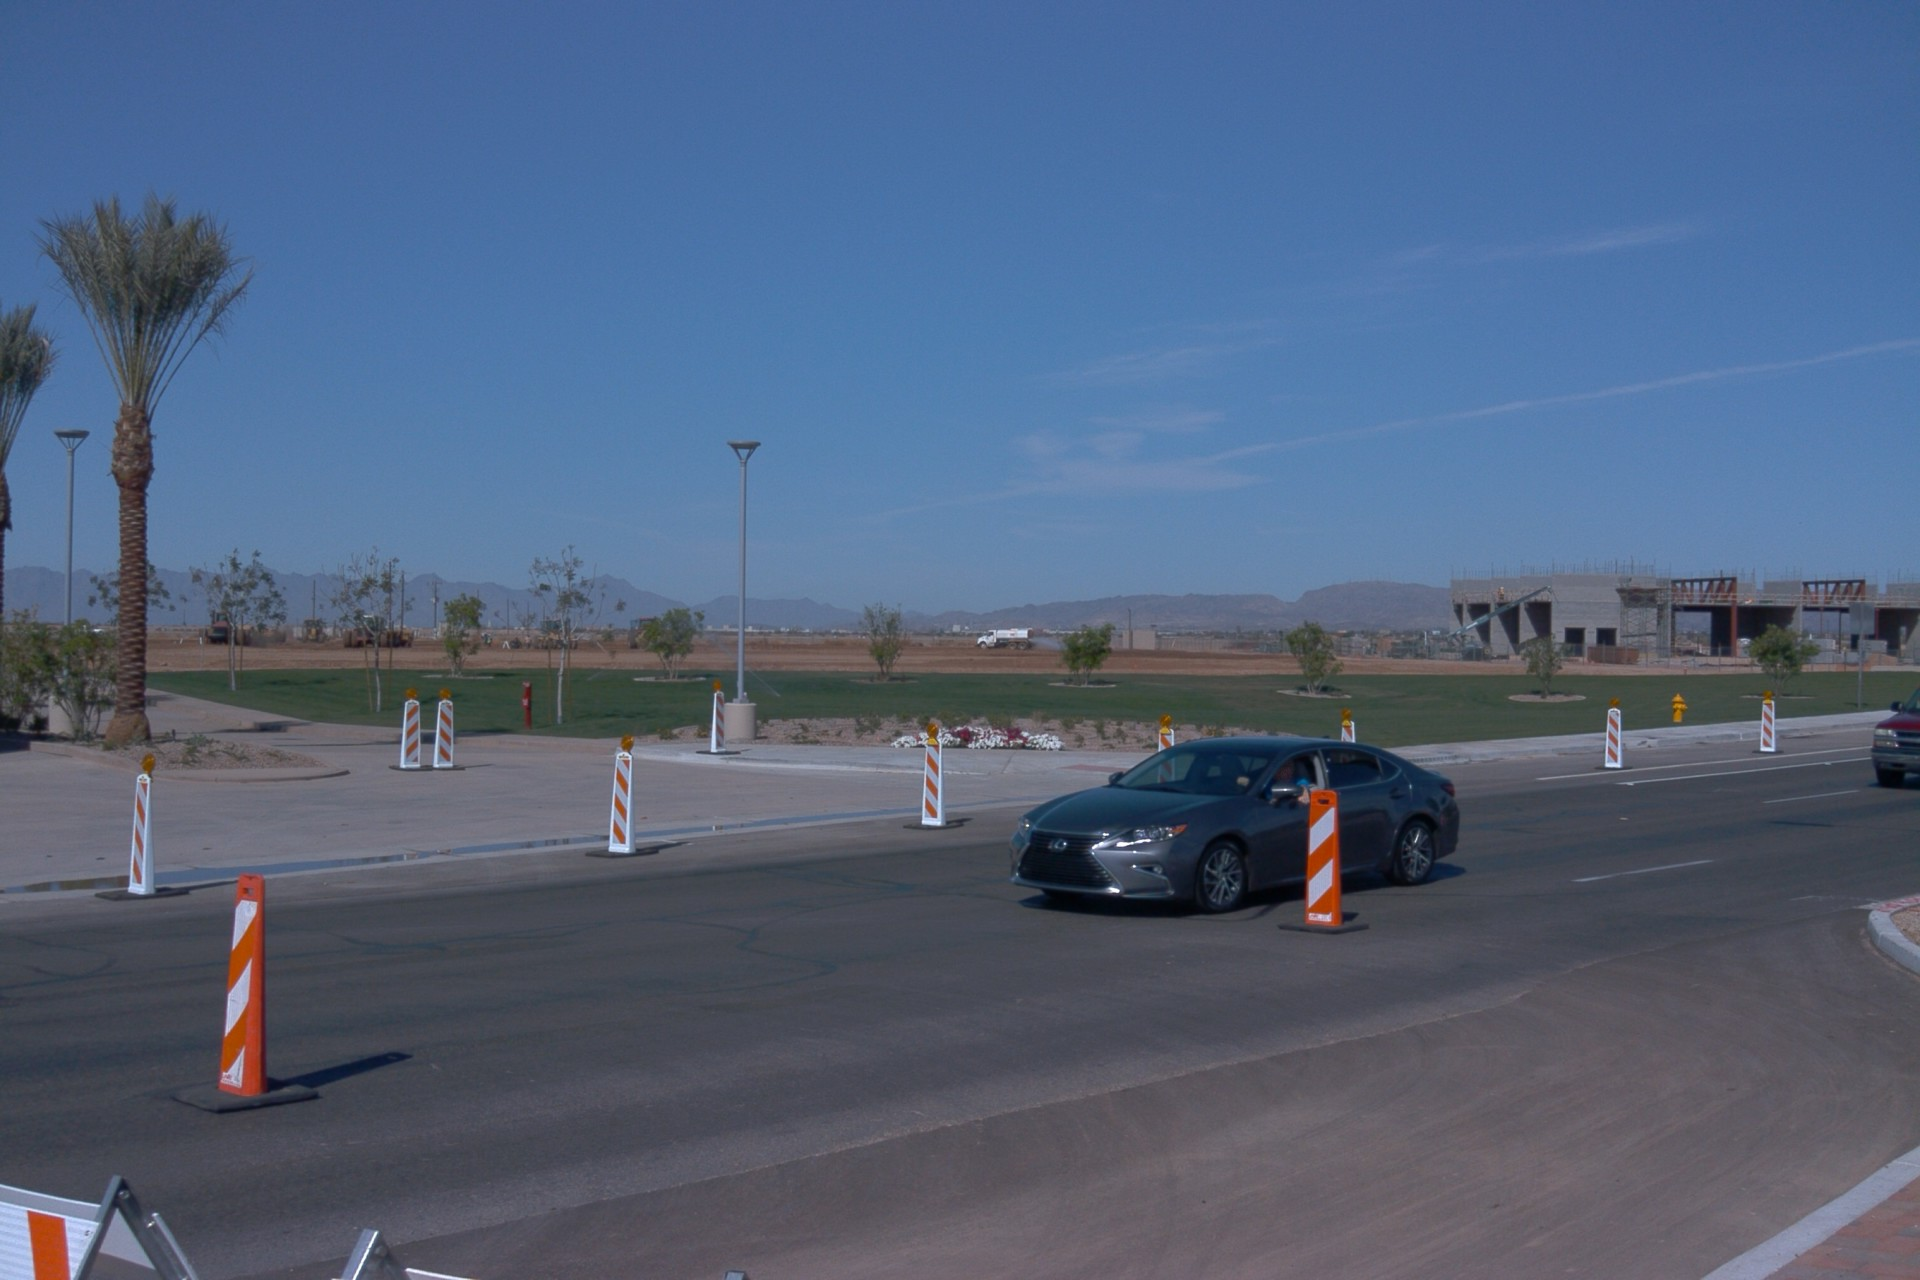TYPE_PEDESTRIAN: (523, 635, 534, 651), (486, 633, 494, 648)
TYPE_VEHICLE: (1008, 734, 1460, 915), (1441, 585, 1554, 657), (1869, 685, 1920, 789), (343, 614, 417, 650), (198, 609, 247, 651), (974, 627, 1037, 650), (304, 620, 332, 642), (74, 626, 106, 639)
